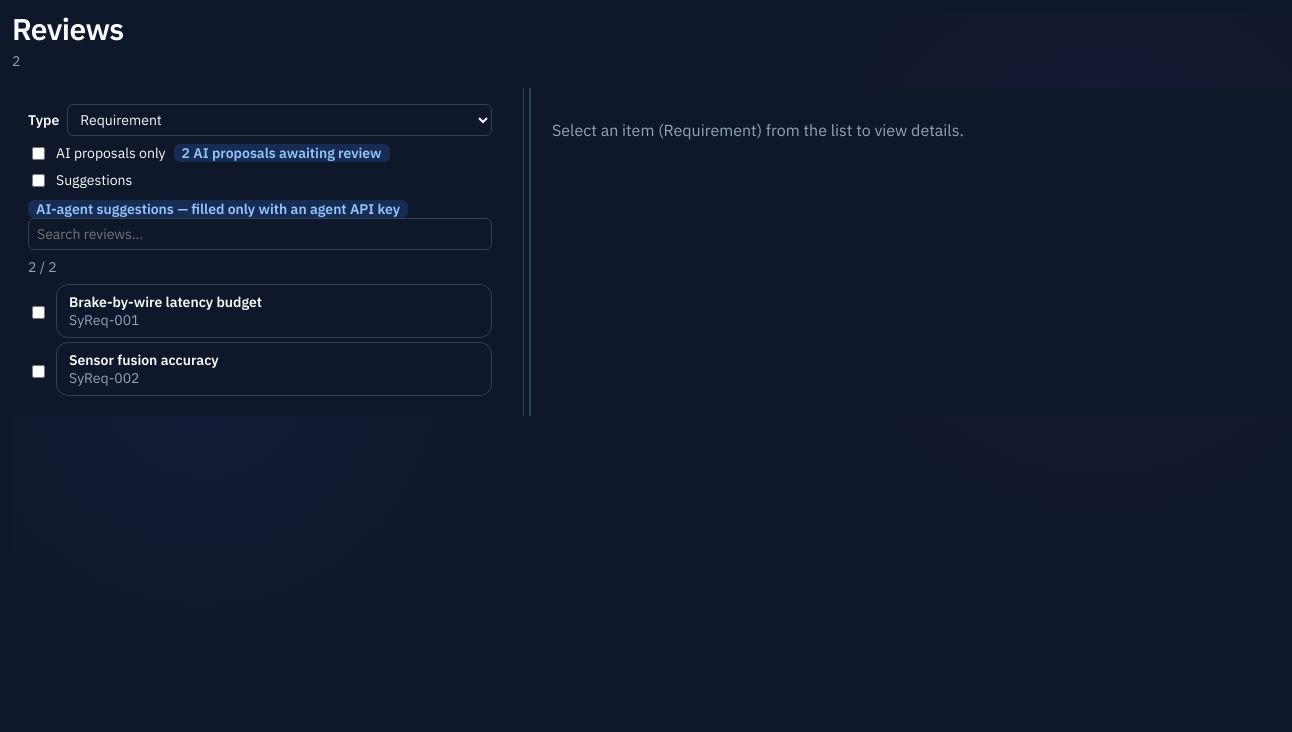
Test: ReviewsView (REQ-144 smoke tests) › [REQ-144] surfaces a 403 ForbiddenError from Approve as an inline alert
This screenshot has width=1292, height=732.
Expected: the text "Brake-by-wire latency budget" is shown, 69,292 -> 262,310
Click the button with test id "review-list-item-req-001".
click(166, 302)  # box 56,284 -> 492,338
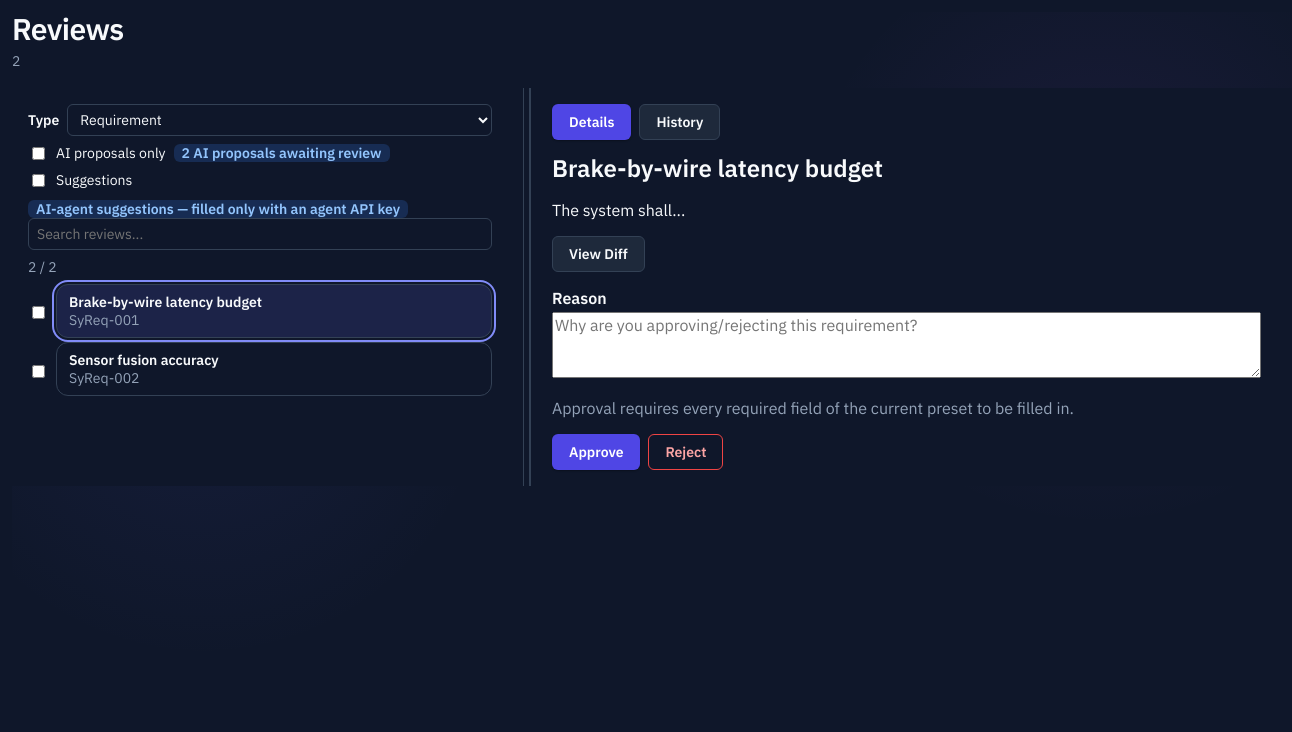
Expected: the button with test id "review-approve-btn" is enabled, 552,434 -> 640,470
Type "Looks good" into the text box with test id "review-change-reason-input".
click(906, 345); type("Looks good")  # box 552,312 -> 1261,378
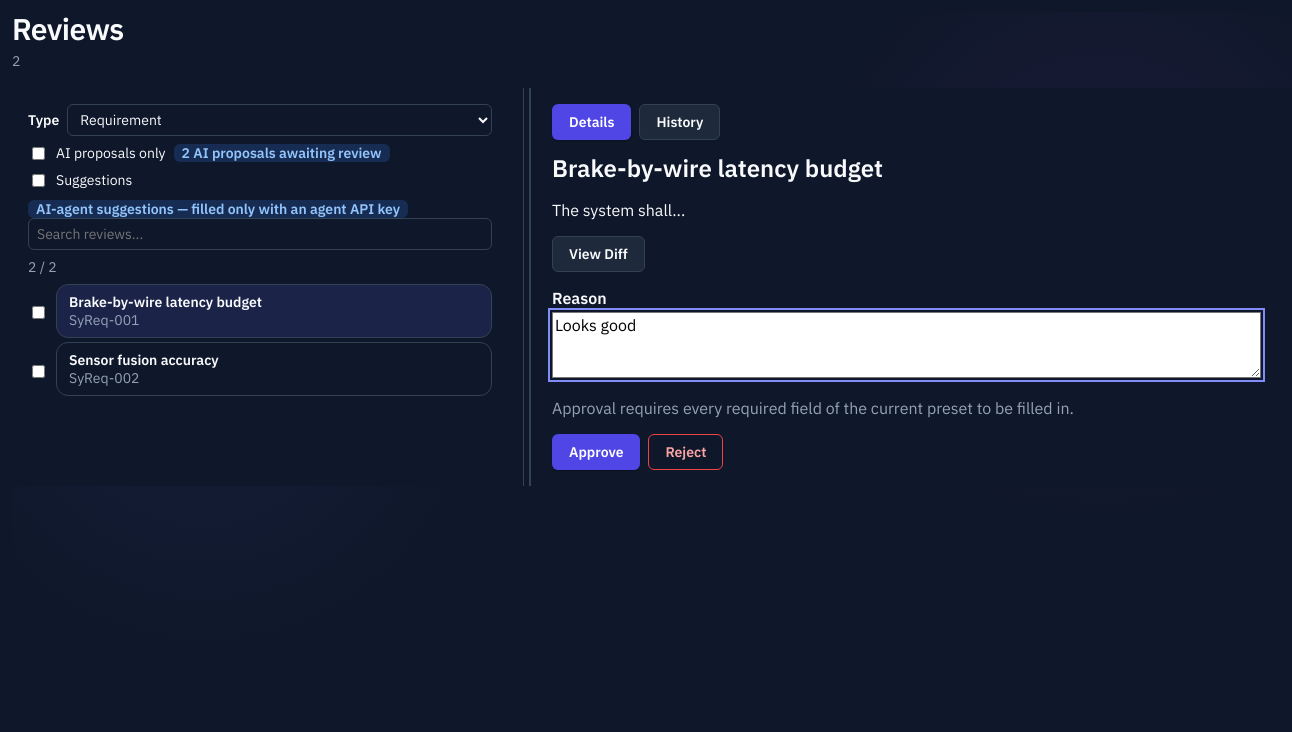
Click the button with test id "review-approve-btn".
click(596, 452)  # box 552,434 -> 640,470
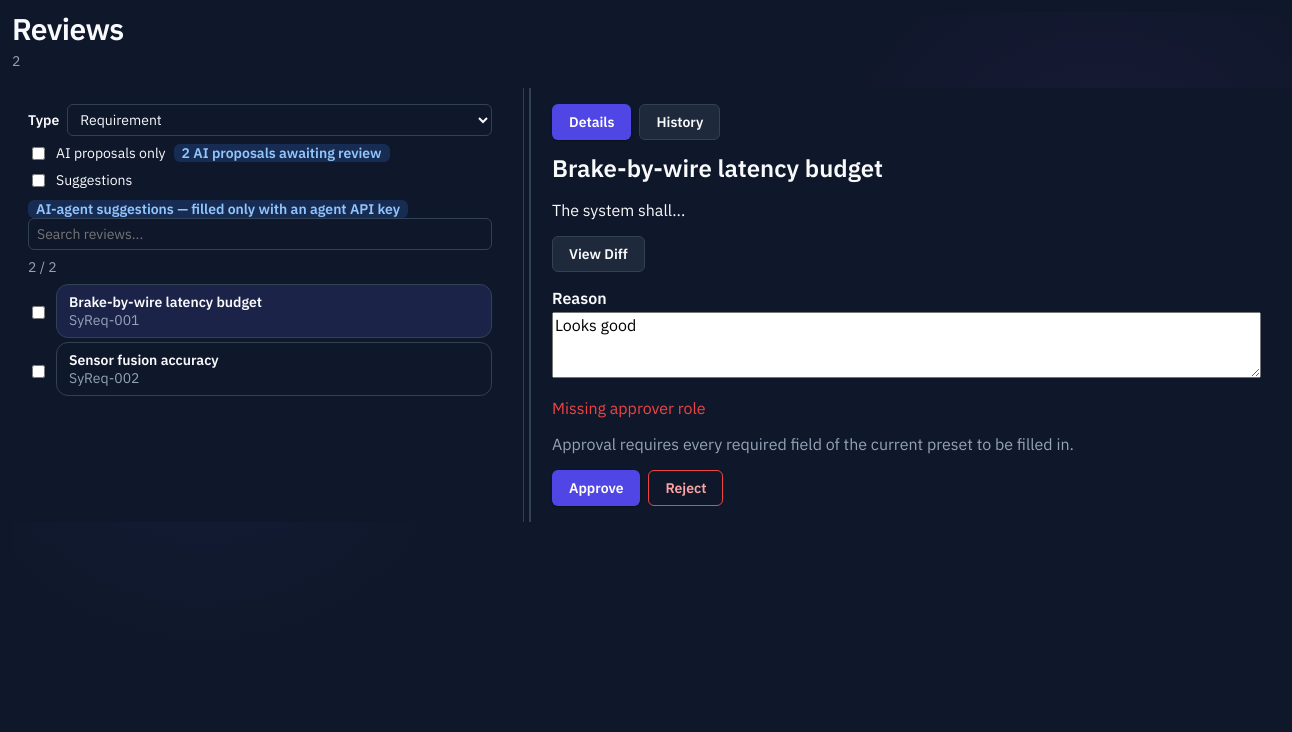
Expected: the message with test id "review-action-error" reads "Missing approver role", 552,398 -> 706,418
